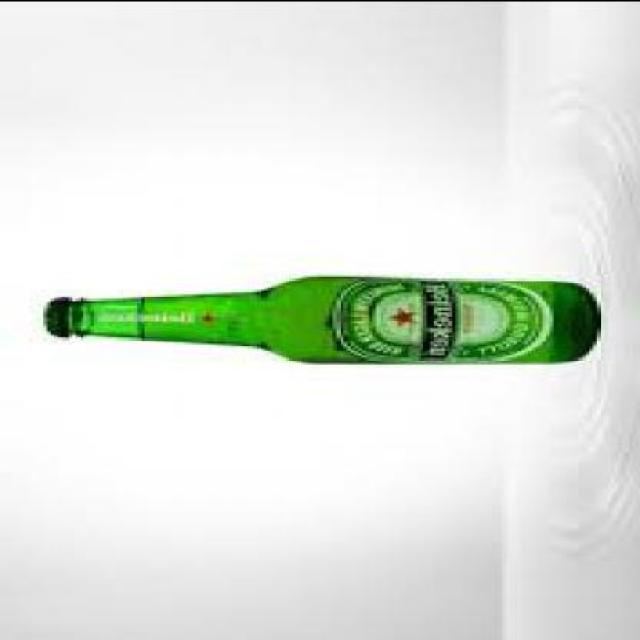GLASS: (40, 273, 597, 361)
METAL: (43, 297, 67, 340)
